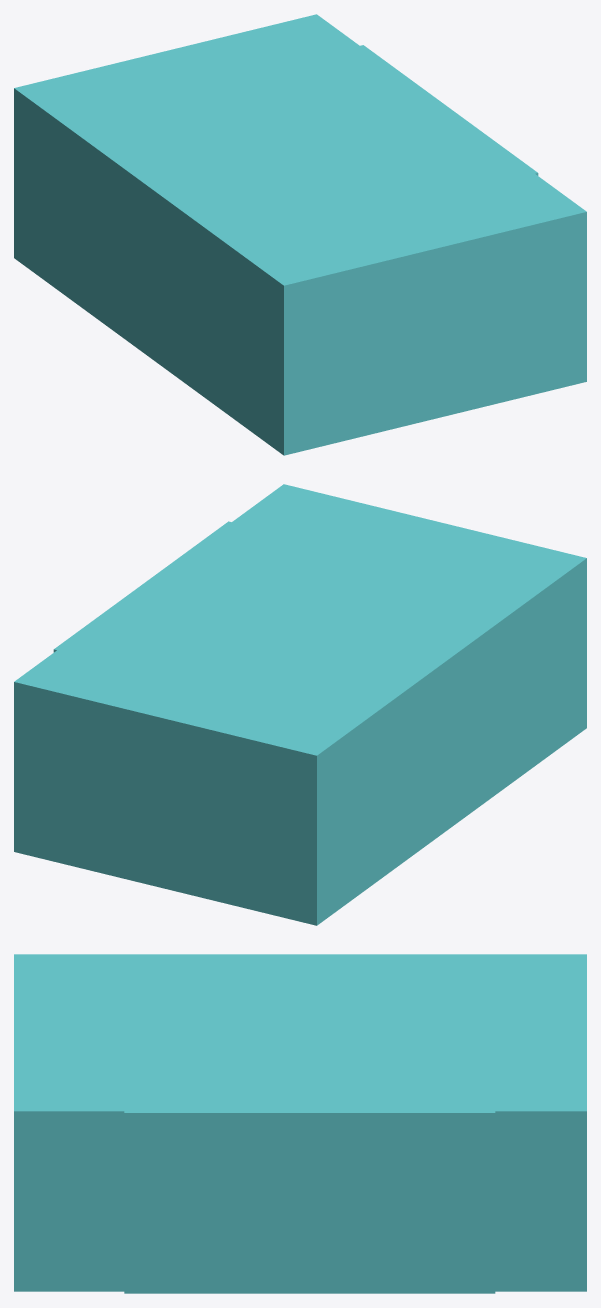
The model's file is miami.glb.
The picture shows the model from 3 angles, top to bottom: view 1: azimuth 30°, elevation 25°; view 2: azimuth 150°, elevation 25°; view 3: azimuth 270°, elevation 25°; orthographic projection. The views are drawn at different scales.
Parts seen in each view (by area): view 1: Agua Piscina 3900; view 2: Agua Piscina 3900; view 3: Agua Piscina 3900.
Part boxes in pixels (left/top/right/bottom): Agua Piscina 3900: left=14, top=14, right=586, bottom=455; Agua Piscina 3900: left=14, top=484, right=586, bottom=925; Agua Piscina 3900: left=14, top=954, right=586, bottom=1293.
Size of the model in its own units: 6.66 by 3.53 by 10.17.
